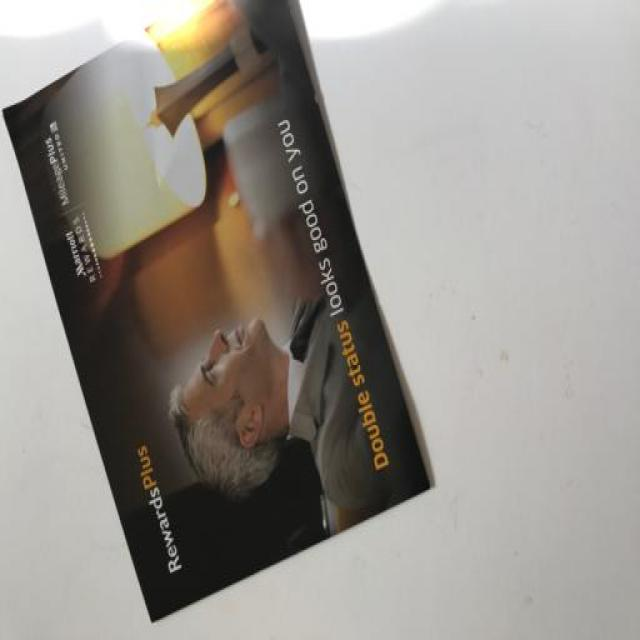paper: (1, 1, 432, 624)
